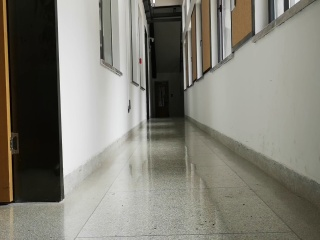room: (1, 3, 67, 203)
